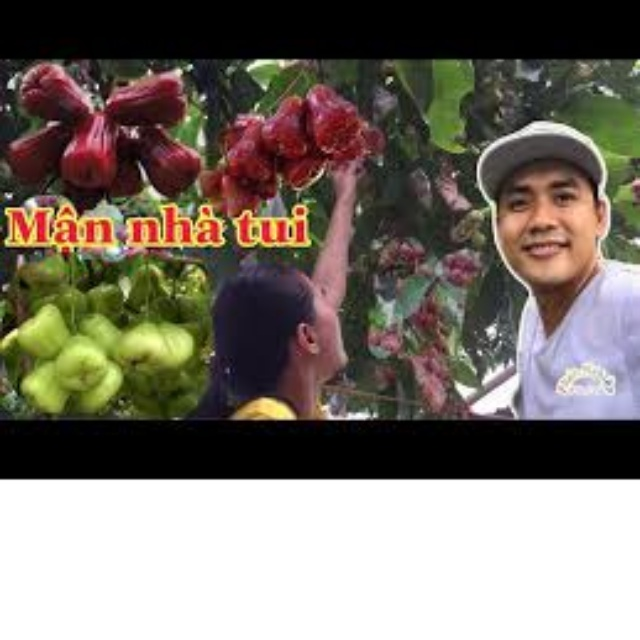xoai: (130, 123, 209, 207), (103, 74, 199, 124), (298, 84, 365, 155), (18, 64, 97, 124), (55, 111, 119, 182), (255, 85, 311, 165)
